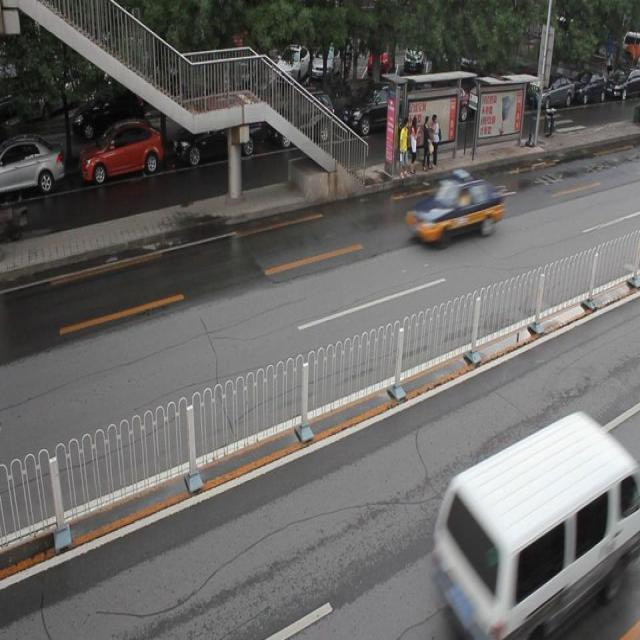car: (406, 167, 502, 243), (175, 93, 262, 161), (78, 120, 162, 183), (0, 137, 64, 197), (342, 80, 411, 135), (271, 89, 334, 147)
truck: (432, 407, 640, 640)
